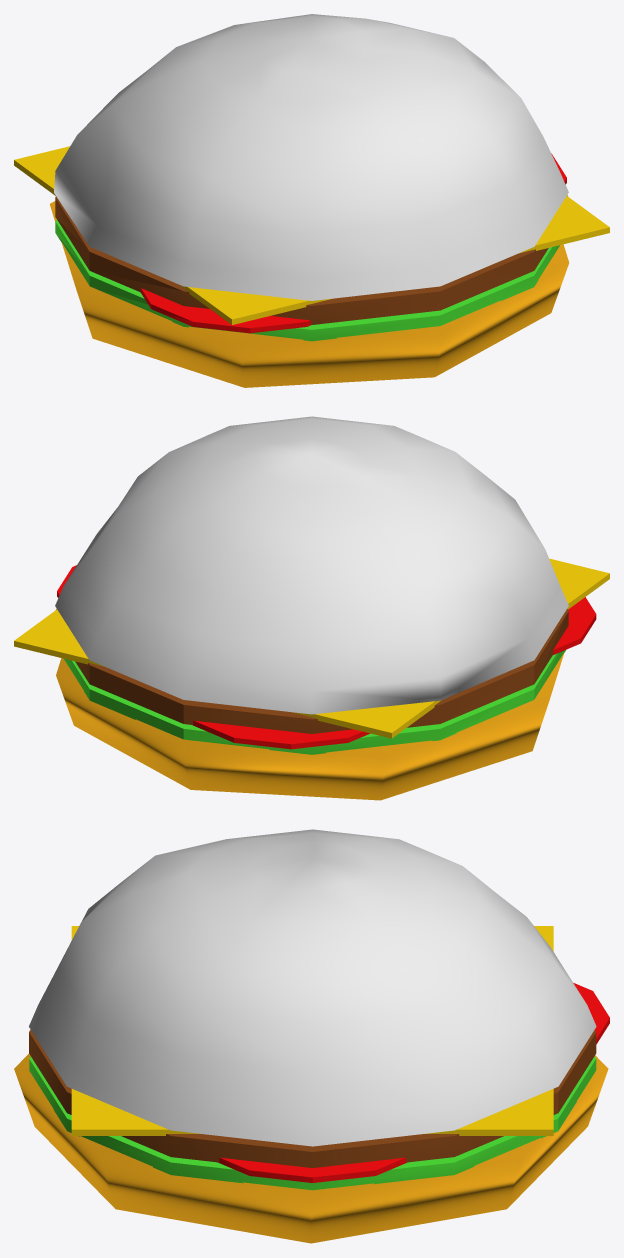
The model's file is Burger.fbx.
3 views of the same model, one above another, from view 1: azimuth 30°, elevation 25°; view 2: azimuth 150°, elevation 25°; view 3: azimuth 270°, elevation 25° (orthographic). The views are drawn at different scales.
Parts seen in each view (by area): view 1: Burger_Top_Bun, Burger_Bottom_Bun, Burger_Patty, Burger_Lettuce, Burger_Cheese, Burger_Tomato3; view 2: Burger_Top_Bun, Burger_Bottom_Bun, Burger_Patty, Burger_Lettuce, Burger_Cheese, Burger_Tomato1, Burger_Tomato3; view 3: Burger_Top_Bun, Burger_Bottom_Bun, Burger_Patty, Burger_Lettuce, Burger_Cheese, Burger_Tomato2, Burger_Tomato1.
Boxes of the visible parts, box(x1,y1,x2,y2) form: Burger_Top_Bun: box(54, 14, 568, 300); Burger_Bottom_Bun: box(49, 201, 569, 387); Burger_Patty: box(55, 195, 567, 324); Burger_Lettuce: box(55, 219, 559, 341); Burger_Cheese: box(14, 146, 609, 324); Burger_Tomato3: box(140, 288, 310, 333); Burger_Top_Bun: box(55, 416, 568, 714); Burger_Bottom_Bun: box(56, 652, 564, 800); Burger_Patty: box(56, 609, 568, 733); Burger_Lettuce: box(64, 650, 565, 754); Burger_Cheese: box(14, 558, 609, 738); Burger_Tomato1: box(192, 720, 369, 749); Burger_Tomato3: box(553, 597, 596, 654); Burger_Top_Bun: box(29, 829, 596, 1146); Burger_Bottom_Bun: box(14, 1054, 608, 1243); Burger_Patty: box(29, 1029, 596, 1167); Burger_Lettuce: box(29, 1056, 596, 1190); Burger_Cheese: box(71, 926, 553, 1135); Burger_Tomato2: box(218, 1157, 407, 1182); Burger_Tomato1: box(573, 983, 609, 1044).
Size of the model in its own units: 0.35 by 0.1748 by 0.3436.
